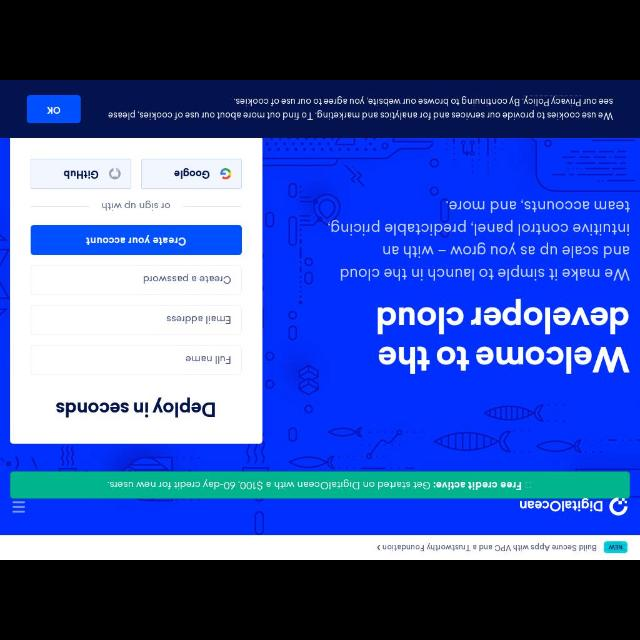button: (141, 158, 241, 188), (31, 160, 131, 188), (28, 95, 80, 123)
icon: (12, 501, 26, 513), (525, 482, 531, 488), (378, 544, 380, 550)
image: (520, 496, 628, 516), (220, 169, 232, 179), (108, 168, 120, 178)
input: (30, 344, 242, 374), (30, 266, 242, 294), (31, 306, 241, 334)
text: (328, 199, 630, 281), (378, 298, 628, 374), (108, 97, 612, 121), (109, 480, 522, 490), (56, 397, 216, 417), (382, 543, 596, 551), (86, 235, 186, 245), (144, 274, 230, 284), (102, 200, 170, 210), (168, 316, 230, 324), (174, 168, 210, 178), (186, 356, 230, 364), (64, 170, 98, 180), (48, 107, 61, 113), (610, 545, 622, 549)
textbutton: (31, 226, 241, 254), (604, 542, 628, 552)
